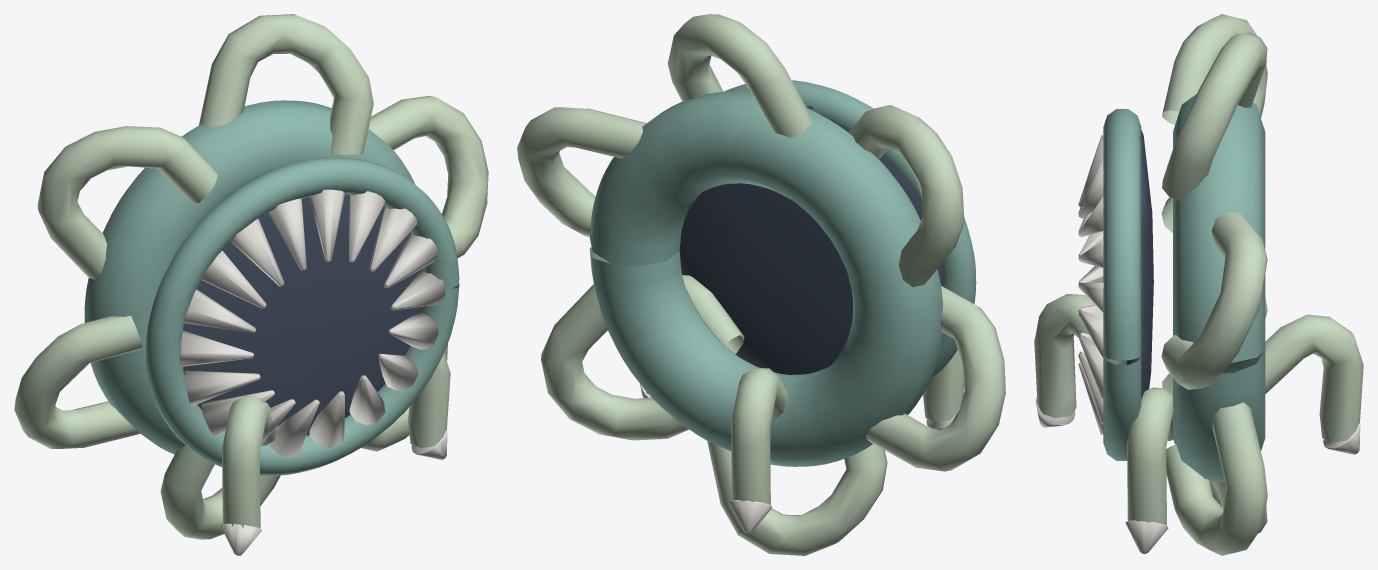
Rendered from bio_spiral_maw_10_far.glb.
3 views of the same model, side by side, from view 1: azimuth 30°, elevation 25°; view 2: azimuth 150°, elevation 25°; view 3: azimuth 270°, elevation 25° (orthographic). The views are drawn at different scales.
Visible parts, largest first — view 1: Recessed mouth cavity, Rear muscular torus, Raised oral lip, Inward tooth, Coiling oral limb.001, Coiling oral limb.002, Coiling oral limb.003, Coiling oral limb, Crooked support.001, Coiling oral limb.004, Crooked support.002, Coiling oral limb.005 (+1 smaller); view 2: Rear muscular torus, Recessed mouth cavity, Coiling oral limb.003, Coiling oral limb.002, Coiling oral limb.001, Coiling oral limb.005, Coiling oral limb, Coiling oral limb.004, Crooked support, Raised oral lip, Crooked support.001, Crooked support.002 (+1 smaller); view 3: Rear muscular torus, Raised oral lip, Coiling oral limb.005, Coiling oral limb, Coiling oral limb.001, Crooked support, Inward tooth, Crooked support.002, Crooked support.001, Coiling oral limb.002, Recessed mouth cavity, Contact spur.002 (+3 smaller).
Part boxes in pixels (x1,y1,x2,y2): Recessed mouth cavity: [183, 194, 422, 435]; Rear muscular torus: [84, 100, 415, 454]; Raised oral lip: [146, 157, 459, 475]; Inward tooth: [179, 189, 445, 458]; Coiling oral limb.001: [199, 14, 373, 154]; Coiling oral limb.002: [37, 126, 217, 279]; Coiling oral limb.003: [14, 315, 142, 448]; Coiling oral limb: [368, 96, 488, 257]; Crooked support.001: [222, 396, 278, 528]; Coiling oral limb.004: [160, 445, 280, 539]; Crooked support.002: [408, 353, 450, 448]; Coiling oral limb.005: [361, 344, 447, 451]; Rear muscular torus: [589, 91, 942, 466]; Recessed mouth cavity: [679, 106, 942, 374]; Coiling oral limb.003: [865, 286, 1005, 471]; Coiling oral limb.002: [848, 105, 964, 287]; Coiling oral limb.001: [667, 14, 812, 137]; Coiling oral limb.005: [541, 284, 688, 440]; Coiling oral limb: [517, 107, 646, 237]; Coiling oral limb.004: [707, 440, 887, 555]; Crooked support: [731, 367, 788, 504]; Raised oral lip: [724, 80, 976, 378]; Crooked support.001: [923, 350, 963, 422]; Crooked support.002: [645, 275, 744, 394]; Rear muscular torus: [1173, 94, 1265, 481]; Raised oral lip: [1103, 109, 1141, 460]; Coiling oral limb.005: [1166, 402, 1267, 555]; Coiling oral limb: [1161, 211, 1267, 389]; Coiling oral limb.001: [1162, 32, 1267, 201]; Crooked support: [1265, 314, 1363, 442]; Inward tooth: [1078, 135, 1118, 434]; Crooked support.002: [1127, 387, 1173, 525]; Crooked support.001: [1034, 294, 1103, 417]; Coiling oral limb.002: [1162, 14, 1267, 124]; Recessed mouth cavity: [1127, 130, 1153, 399]; Contact spur.002: [1125, 520, 1168, 553].
Bounding box in the file's own units: 2.63 × 2.74 × 1.57.
